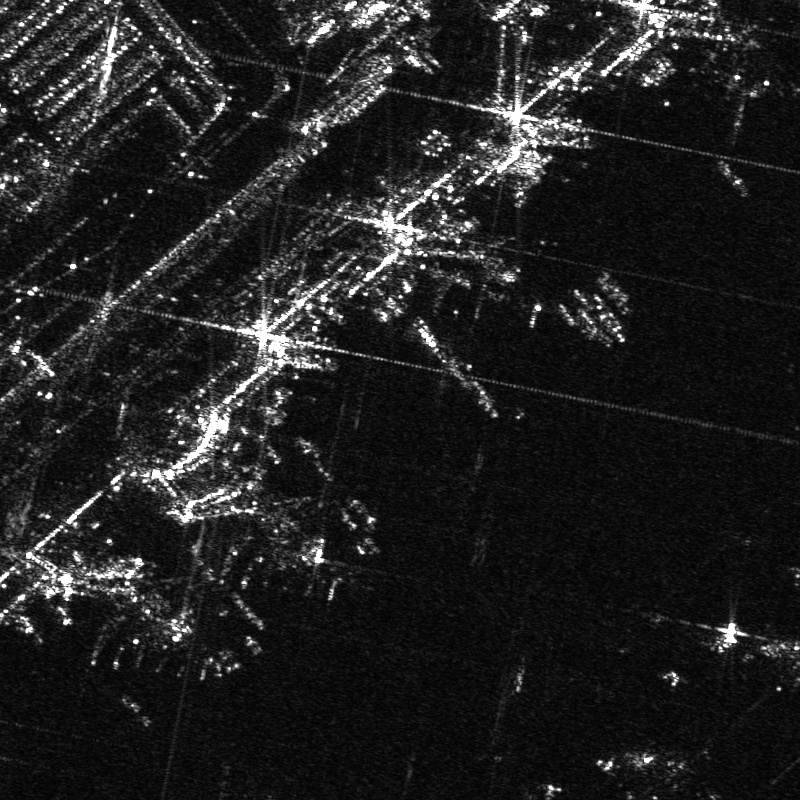A330: (461, 234, 558, 329)
Boeing737: (81, 575, 219, 672), (221, 493, 334, 576), (759, 633, 799, 701)
